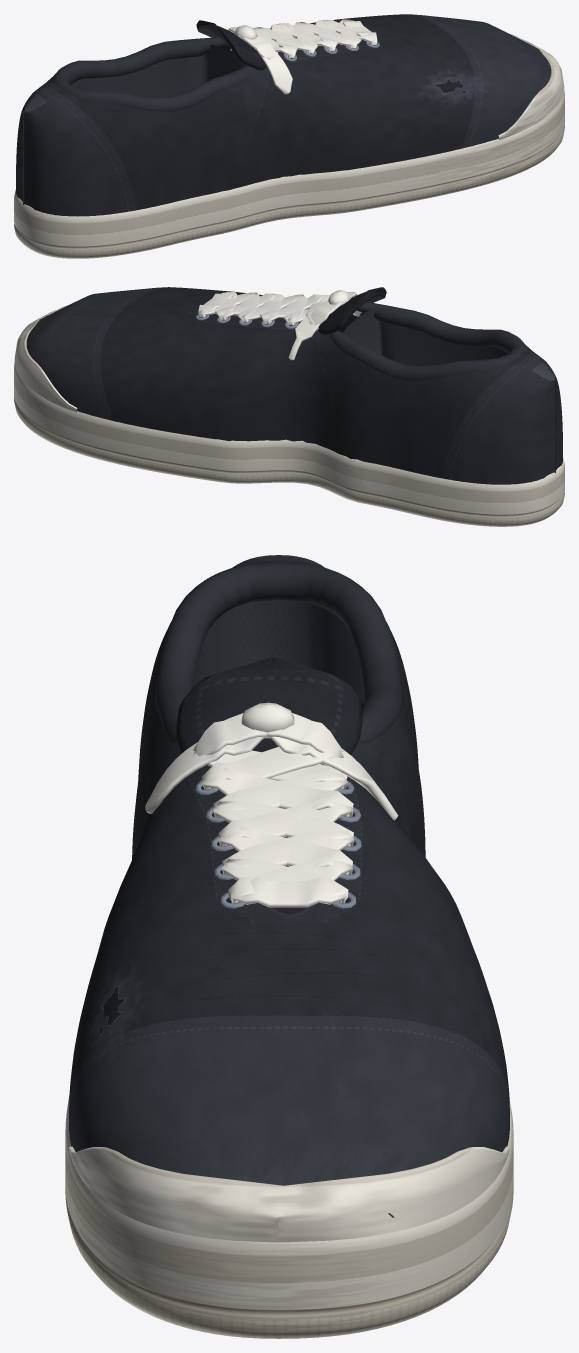
The model's file is shoes.glb.
The picture shows the model from 3 angles, top to bottom: view 1: azimuth 30°, elevation 25°; view 2: azimuth 150°, elevation 25°; view 3: azimuth 270°, elevation 25°; orthographic projection. The views are drawn at different scales.
Visible parts, largest first — view 1: Shoe_Upper, Shoe_Sole, Shoe_Laces; view 2: Shoe_Upper, Shoe_Sole, Shoe_Laces; view 3: Shoe_Upper, Shoe_Sole, Shoe_Laces.
Part boxes in pixels (<box>): Shoe_Upper: <box>16,14,551,216</box>; Shoe_Sole: <box>14,34,564,258</box>; Shoe_Laces: <box>228,19,377,94</box>; Shoe_Upper: <box>26,287,562,484</box>; Shoe_Sole: <box>14,305,564,526</box>; Shoe_Laces: <box>198,290,361,360</box>; Shoe_Upper: <box>69,555,509,1217</box>; Shoe_Sole: <box>65,1096,513,1338</box>; Shoe_Laces: <box>145,702,398,907</box>.
Size of the model in its own units: 0.285 by 0.092 by 0.105.
3 materials, 2 textured.
